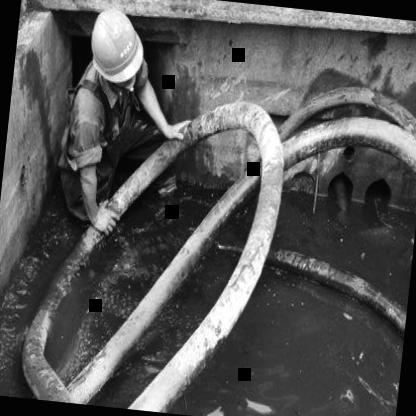helmet: (81, 6, 148, 91)
